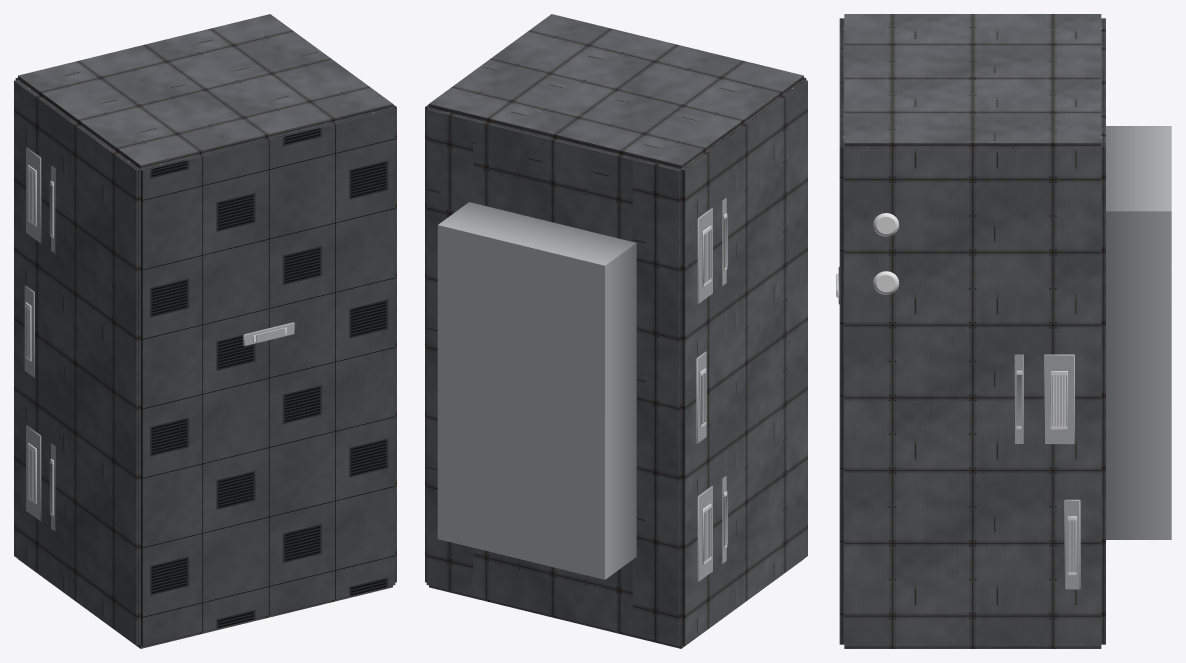
The model's file is StarlabInterior.fbx.
3 views of the same model, side by side, from view 1: azimuth 30°, elevation 25°; view 2: azimuth 150°, elevation 25°; view 3: azimuth 270°, elevation 25° (orthographic). The views are drawn at different scales.
Parts seen in each view (by area): view 1: Mesh_DeckPlate, Mesh_WallPanel, Mesh_Frame.001, Mesh_FrameDark.001; view 2: Mesh_WallPanel, Mesh_Frame.001, Mesh_FrameDark.001; view 3: Mesh_WallPanel, Mesh_Frame.001, Mesh_DeckPlate, Mesh_FrameDark.001, Mesh_Tank.
Boxes of the visible parts, left/top/right/bottom form: Mesh_DeckPlate: left=140, top=108, right=395, bottom=646; Mesh_WallPanel: left=14, top=14, right=396, bottom=648; Mesh_Frame.001: left=24, top=87, right=374, bottom=531; Mesh_FrameDark.001: left=25, top=165, right=286, bottom=516; Mesh_WallPanel: left=425, top=14, right=807, bottom=648; Mesh_Frame.001: left=437, top=87, right=793, bottom=581; Mesh_FrameDark.001: left=699, top=213, right=727, bottom=564; Mesh_WallPanel: left=844, top=14, right=1105, bottom=648; Mesh_Frame.001: left=836, top=28, right=1171, bottom=589; Mesh_DeckPlate: left=839, top=18, right=844, bottom=644; Mesh_FrameDark.001: left=836, top=273, right=1076, bottom=574; Mesh_Tank: left=873, top=213, right=899, bottom=294.
Bounding box in the file's own units: 2 × 3.48 × 2.09.
